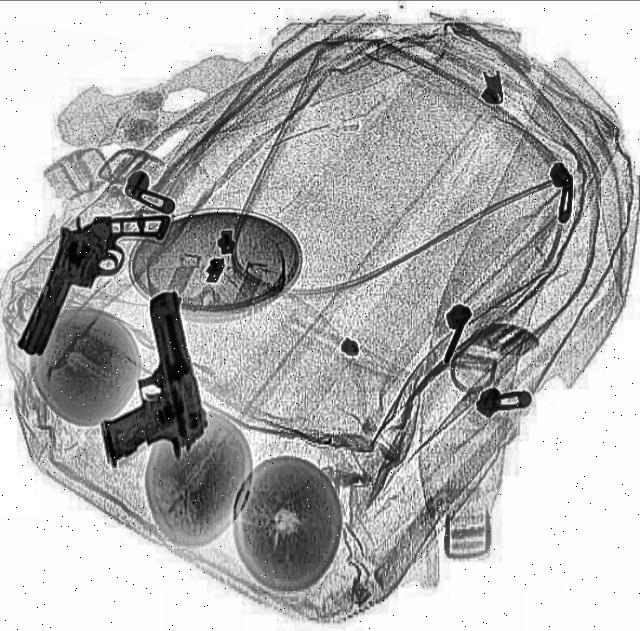Gun: (11, 190, 171, 380), (70, 290, 216, 475)
